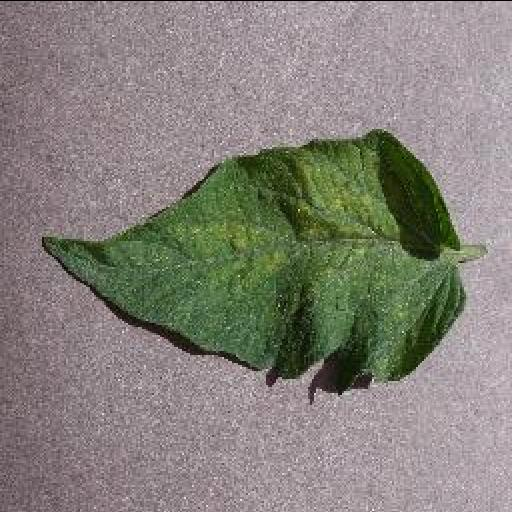disease_tomato: (40, 130, 466, 392)
